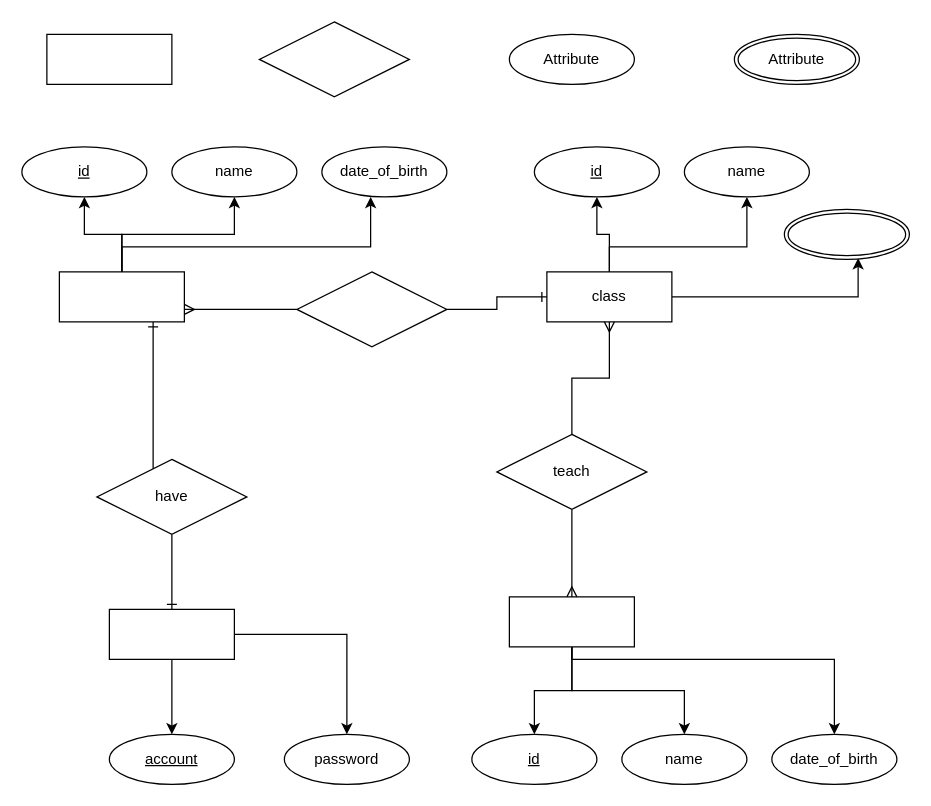
Some shapes in this 931 by 806 pixel diagram are drawn without their labels. The centre of each missing label's shape, as x and y in pixels:
"account_james" belongs at pixel 171 633.
"Entity" belongs at pixel 109 58.
"instructor" belongs at pixel 571 621.
"Relationship" belongs at pixel 333 59.
"student" belongs at pixel 121 296.
"study" belongs at pixel 371 309.
"type_of_class" belongs at pixel 846 233.
